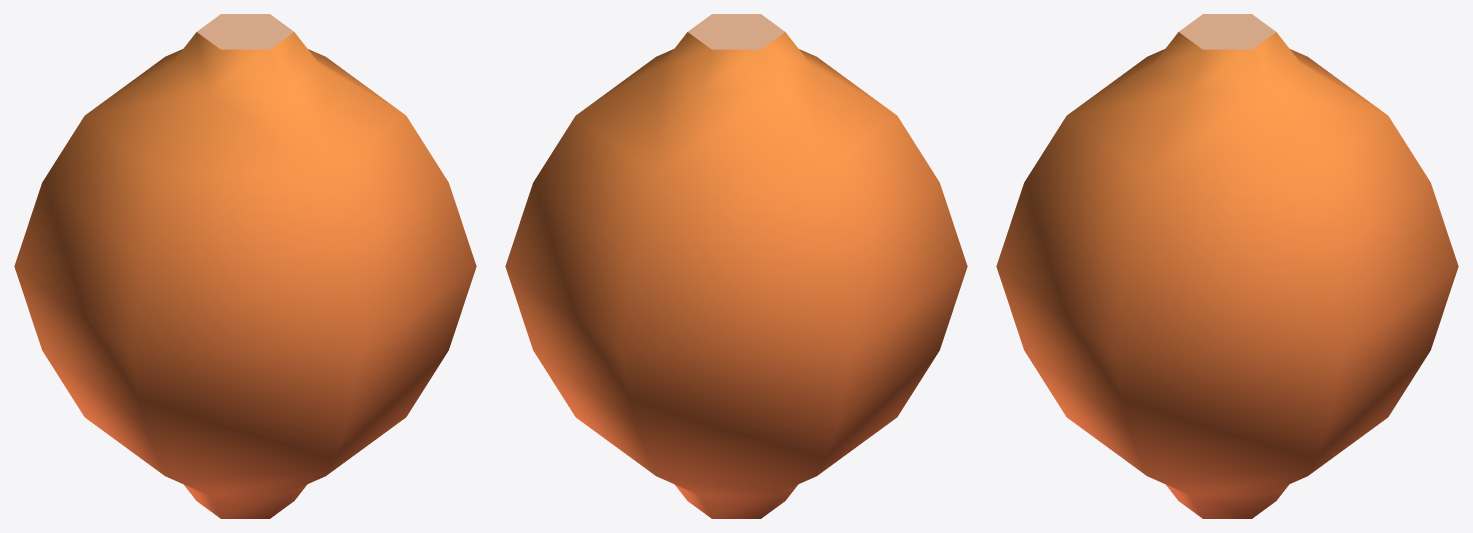
Rendered from lemon.glb.
3 renders of one model, left to right at view 1: azimuth 30°, elevation 25°; view 2: azimuth 150°, elevation 25°; view 3: azimuth 270°, elevation 25°, orthographic.
Parts seen in each view (by area): view 1: lemon; view 2: lemon; view 3: lemon.
Part boxes in pixels (bbox=[...]): lemon: bbox=[14, 14, 476, 518]; lemon: bbox=[505, 14, 967, 518]; lemon: bbox=[996, 14, 1458, 518].
Size of the model in its own units: 0.1732 by 0.224 by 0.2.
Materials: 1 (1 with a texture image).
